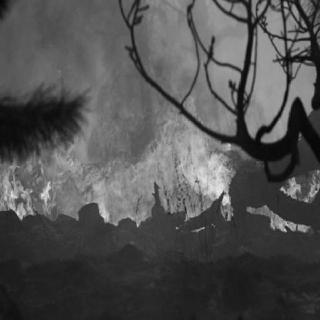Fire: (252, 174, 320, 233)
